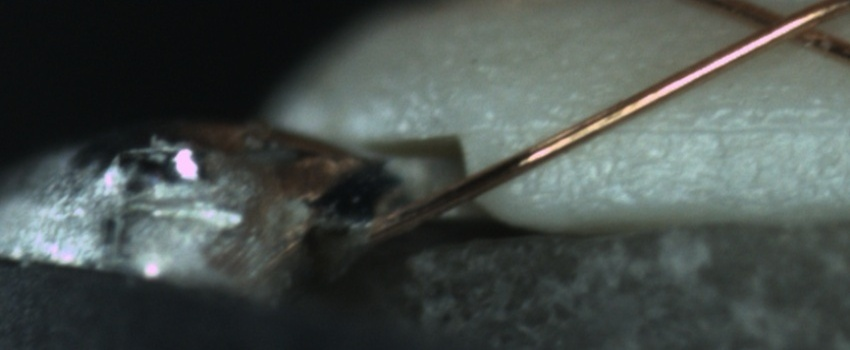CL: (721, 1, 839, 56)
DL: (537, 98, 847, 155)
